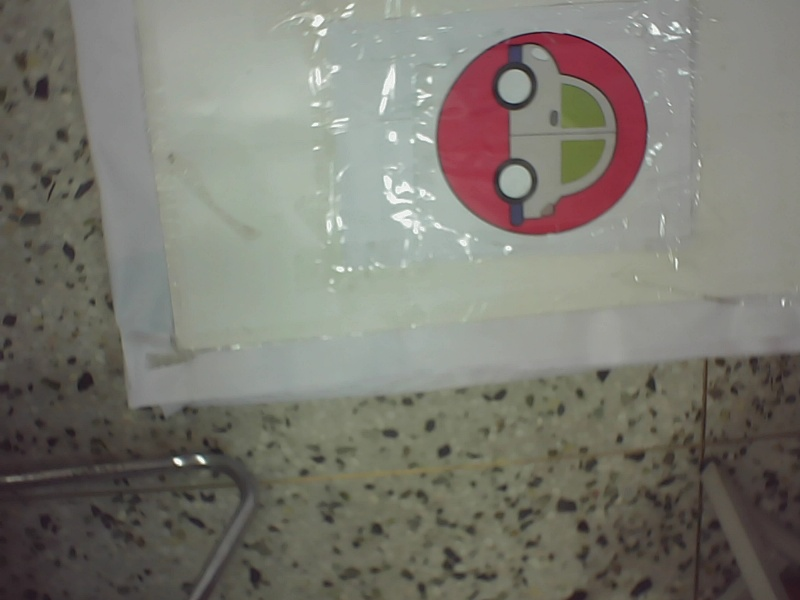areaC: (429, 28, 658, 244)
